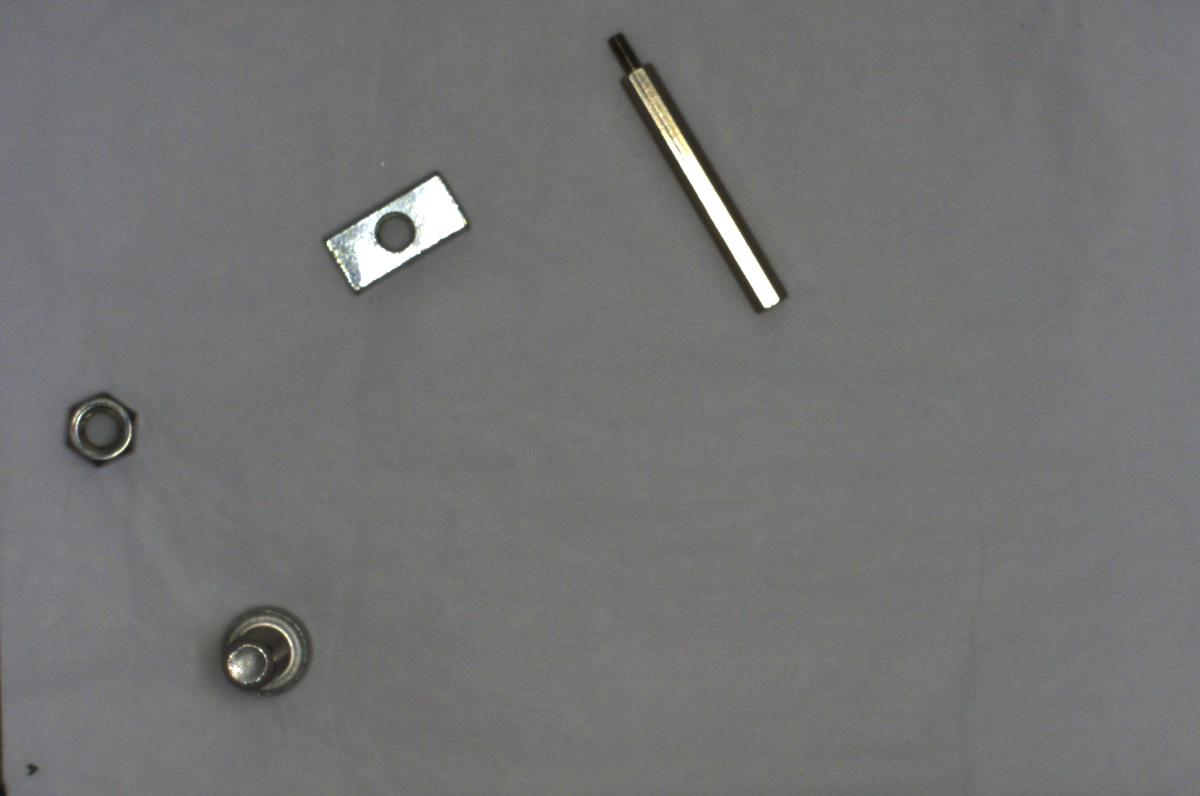Hexagon nut: (57, 388, 142, 472)
Hexagon screw: (211, 601, 326, 700)
Hexagonal steel column: (598, 20, 793, 322)
Rectangular nut: (314, 162, 473, 301)
